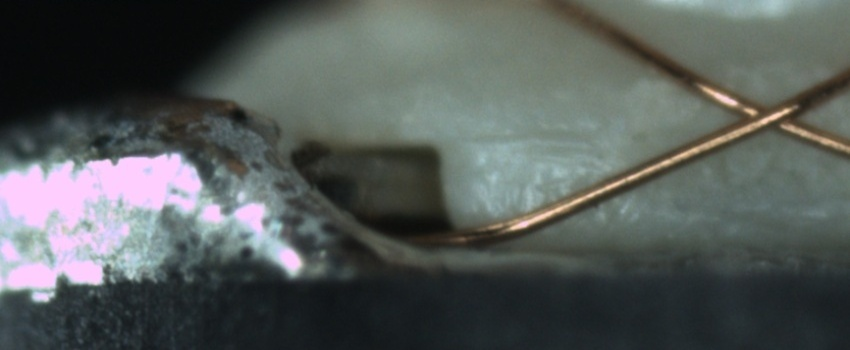CL: (700, 77, 837, 147)
DL: (450, 110, 615, 172)
